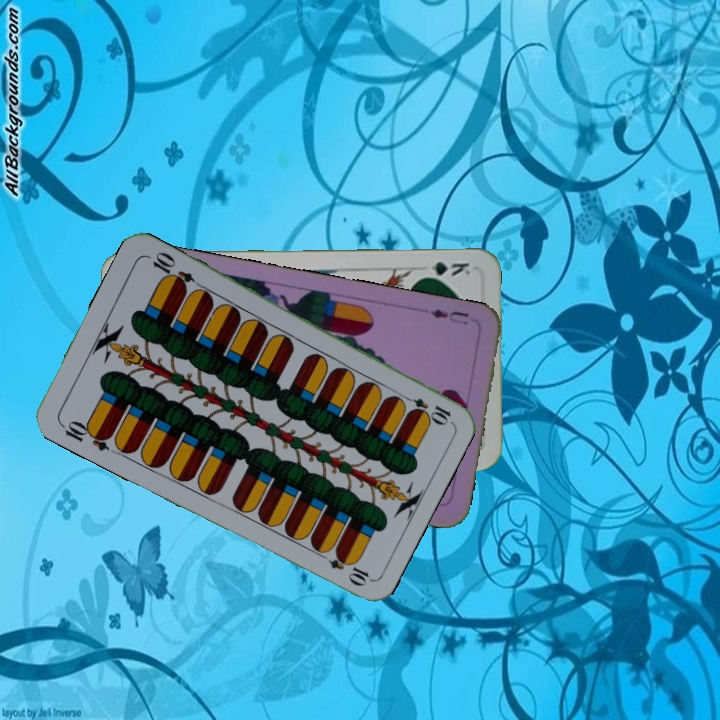E10: (56, 416, 114, 454), (397, 390, 454, 426)
EU: (426, 305, 472, 328)
GK: (416, 257, 473, 280)
